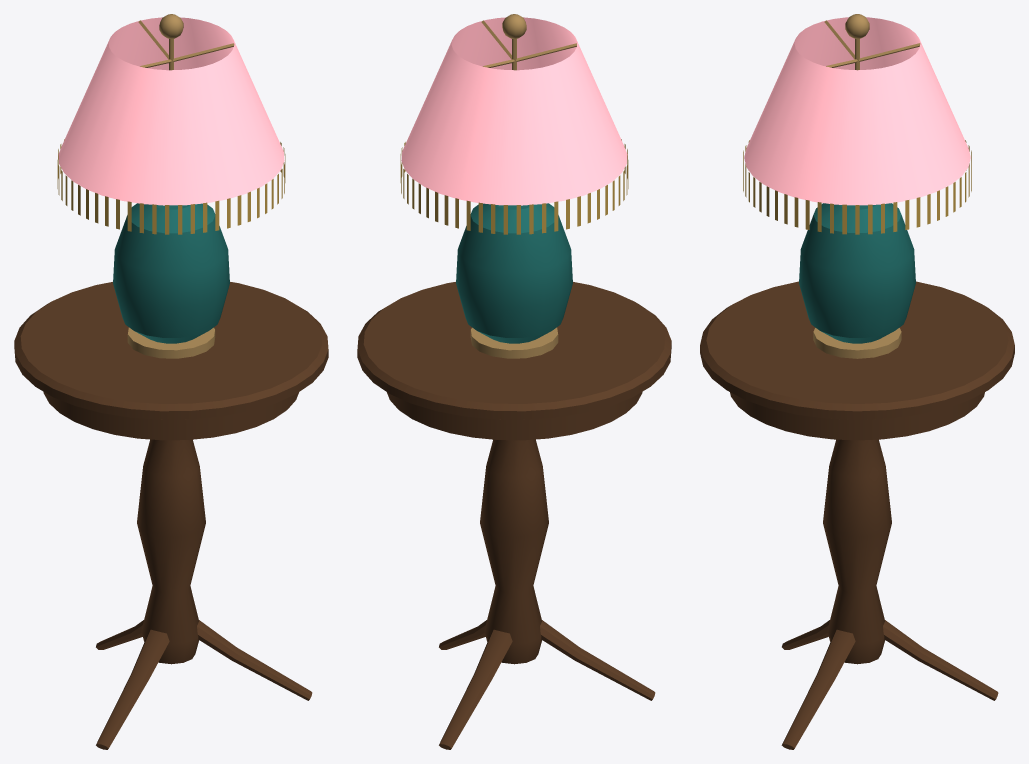
File: side_table_lamp.glb
The picture shows the model from 3 angles, left to right: view 1: azimuth 30°, elevation 25°; view 2: azimuth 150°, elevation 25°; view 3: azimuth 270°, elevation 25°; orthographic projection.
Visible parts, largest first — view 1: side_table_lamp, lamp; view 2: side_table_lamp, lamp; view 3: side_table_lamp, lamp.
Boxes of the visible parts, <box> form: side_table_lamp: <box>14,282,328,749</box>; lamp: <box>57,14,285,358</box>; side_table_lamp: <box>357,282,671,749</box>; lamp: <box>400,14,628,358</box>; side_table_lamp: <box>700,281,1014,749</box>; lamp: <box>743,14,971,358</box>.
Bounding box in the file's own units: 0.5 × 1.2 × 0.5.
